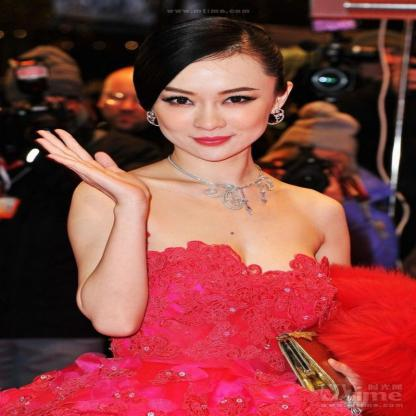face: (155, 56, 276, 162), (103, 73, 159, 128)
